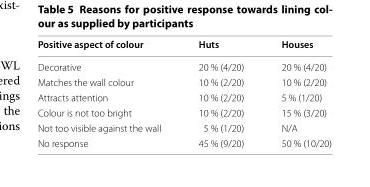table: (36, 37, 330, 148)
table column: (36, 37, 179, 148), (179, 37, 261, 148), (261, 37, 330, 148)
table column header: (36, 37, 330, 55)
table row: (36, 55, 330, 74), (36, 37, 330, 55), (36, 119, 330, 135), (36, 74, 330, 89), (36, 89, 330, 104), (36, 104, 330, 119), (36, 135, 330, 148)
